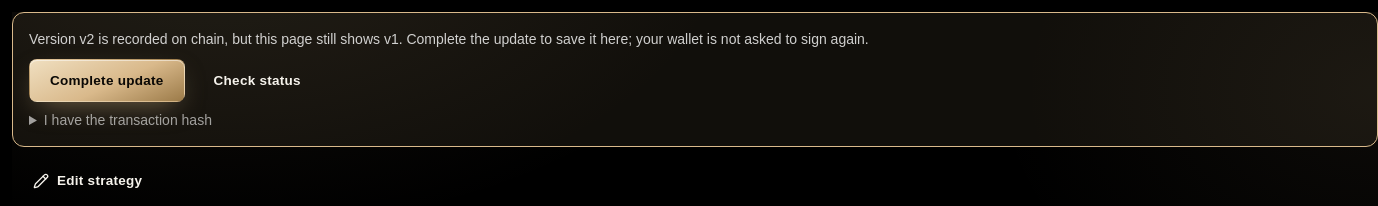
Test: EditStrategyPanel › chain ahead of the server: shows the real state and completes the update without a new signature
This screenshot has width=1378, height=206.
Click the button with test id "version-recover": [107, 81] box [29,59,185,102]
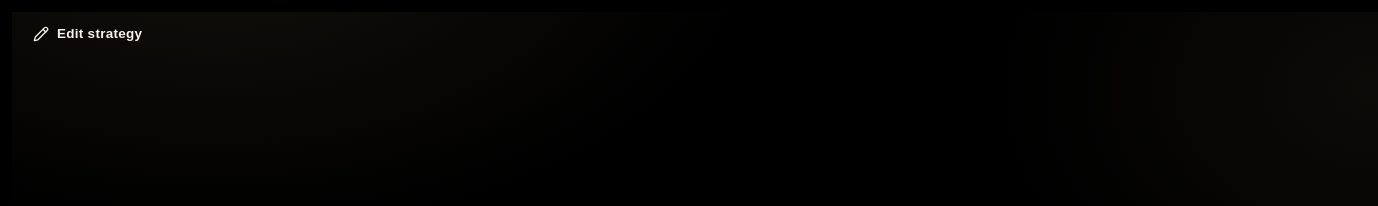
Now the message with test id "version-sync" is gone
